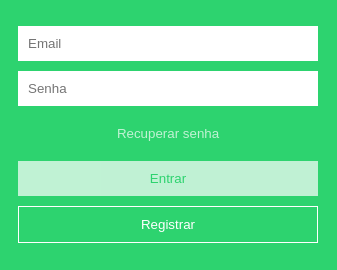
Scenario: Login › given user clicks on recover password button › when fail › then show error
Step 1. Type "valid@email.com" into the field with test id "email" → (168,43), box [18,26,318,60]
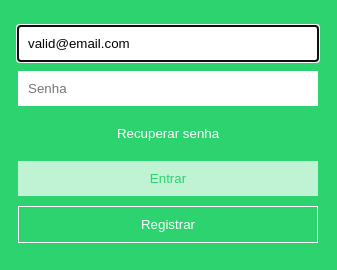
Step 2. Click the button with test id "recover-password-button" → (168,133), box [18,116,318,150]
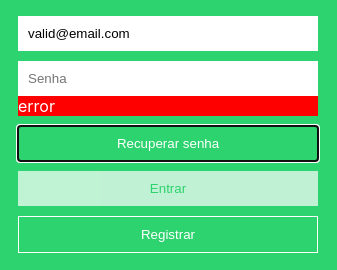
Expected: the text "error" is shown, [18,96,318,116]
